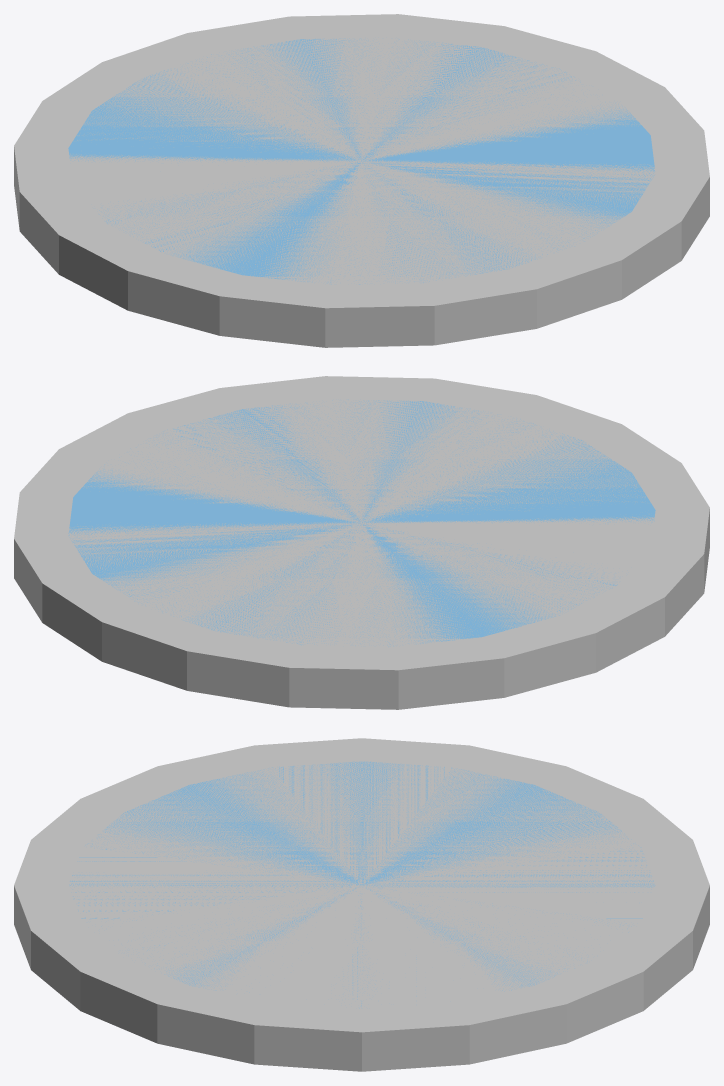
Rendered from kolam.glb.
3 renders of one model, top to bottom at view 1: azimuth 30°, elevation 25°; view 2: azimuth 150°, elevation 25°; view 3: azimuth 270°, elevation 25°, orthographic.
Bounding box in the file's own units: 3.2 × 0.2 × 3.2.
